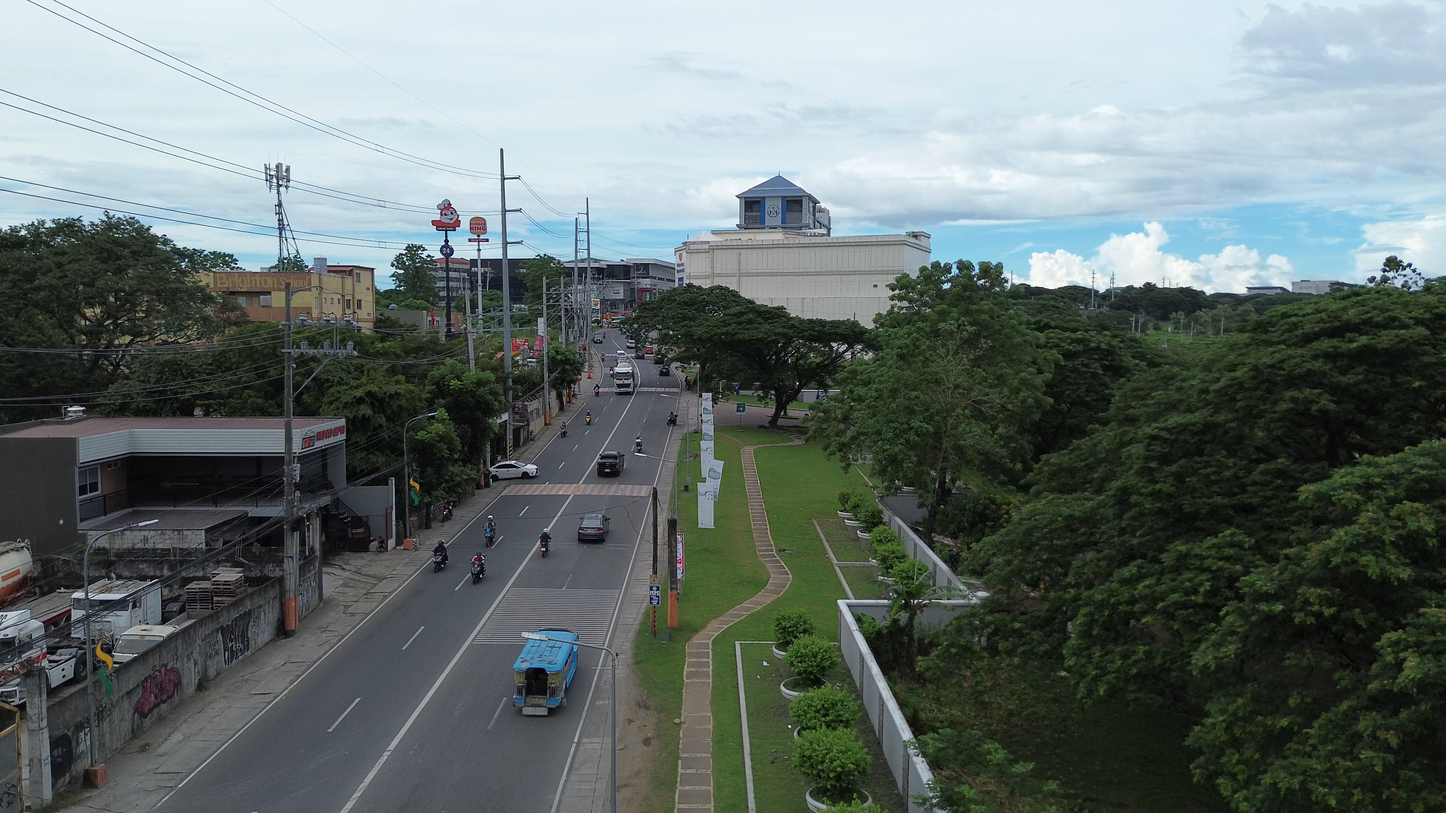car: (490, 460, 538, 481), (577, 513, 610, 542), (625, 338, 635, 349), (658, 367, 670, 376), (592, 334, 603, 343), (634, 350, 644, 359)
motorcycle: (472, 556, 485, 584), (441, 499, 453, 522), (484, 526, 496, 547), (539, 536, 549, 557), (434, 553, 445, 572), (633, 437, 643, 452), (667, 412, 677, 426), (560, 424, 567, 438), (585, 413, 592, 425), (595, 385, 600, 396)
truck: (0, 610, 79, 688)
vehicle: (514, 629, 578, 716), (72, 580, 162, 638), (113, 624, 179, 664), (0, 541, 32, 603), (597, 451, 625, 476), (613, 364, 635, 394), (471, 554, 484, 584), (538, 530, 551, 557), (441, 500, 454, 521), (432, 553, 446, 572), (616, 351, 628, 362), (560, 423, 568, 438), (585, 411, 593, 425), (633, 350, 645, 359), (644, 346, 655, 355)
